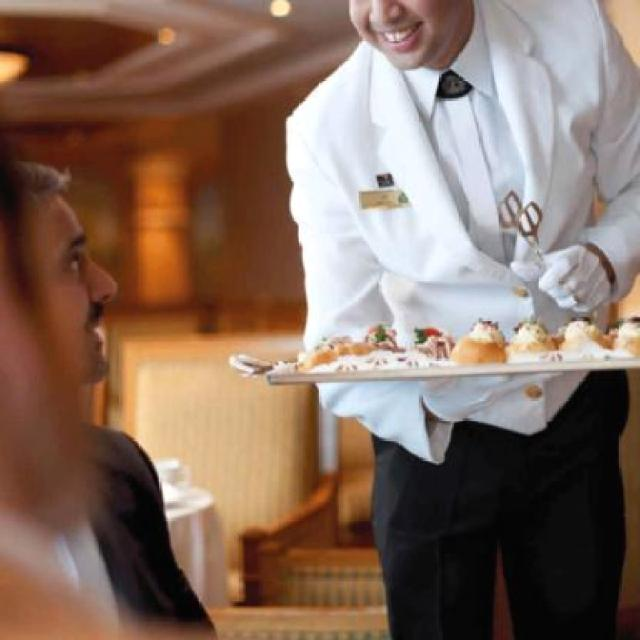face_nomask: (48, 224, 129, 359)
hand_glove: (420, 368, 563, 426), (505, 247, 613, 313)
